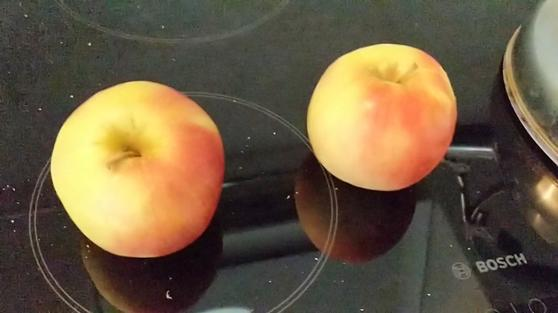apple: (48, 80, 226, 258), (305, 42, 458, 190)
